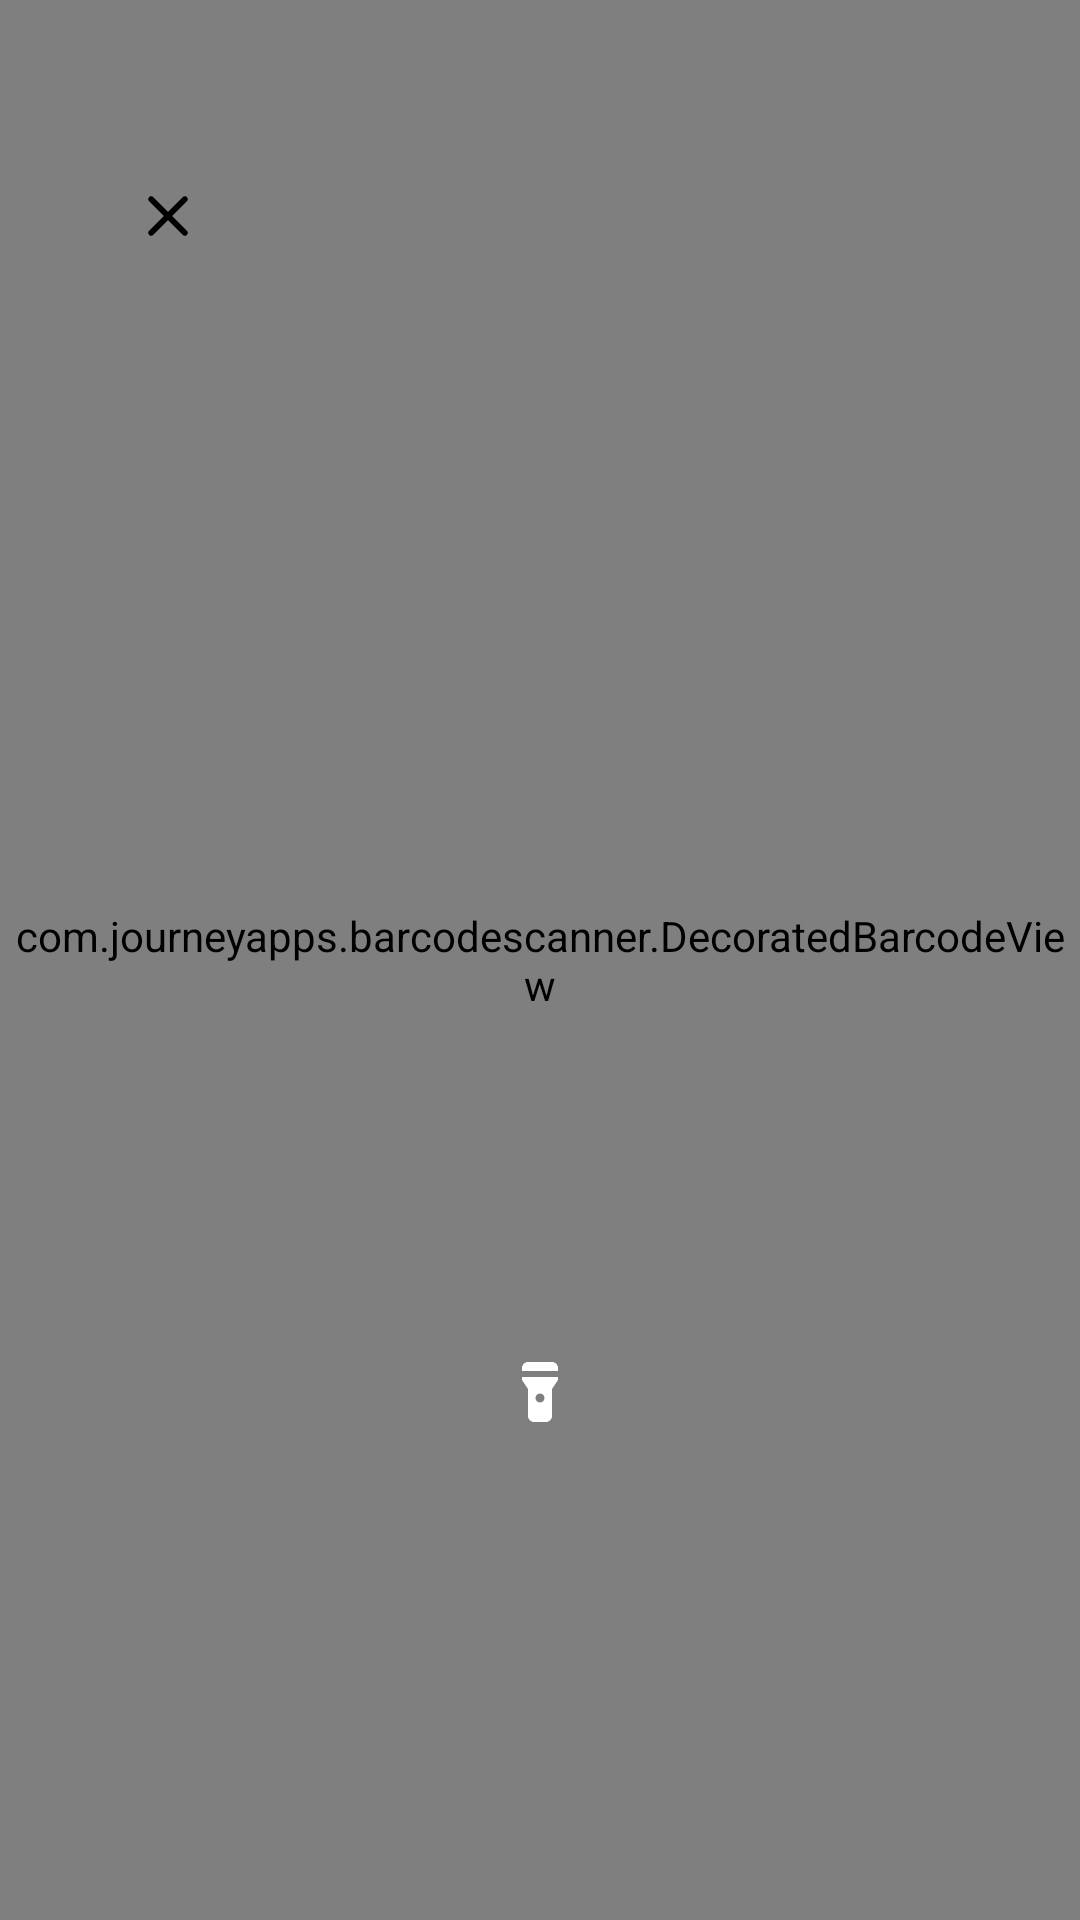

Named icons in this screenshot (1080*1920) and their centers, point (x, y):
close: point (168, 216)
Turn On Flashlight: point (540, 1392)
